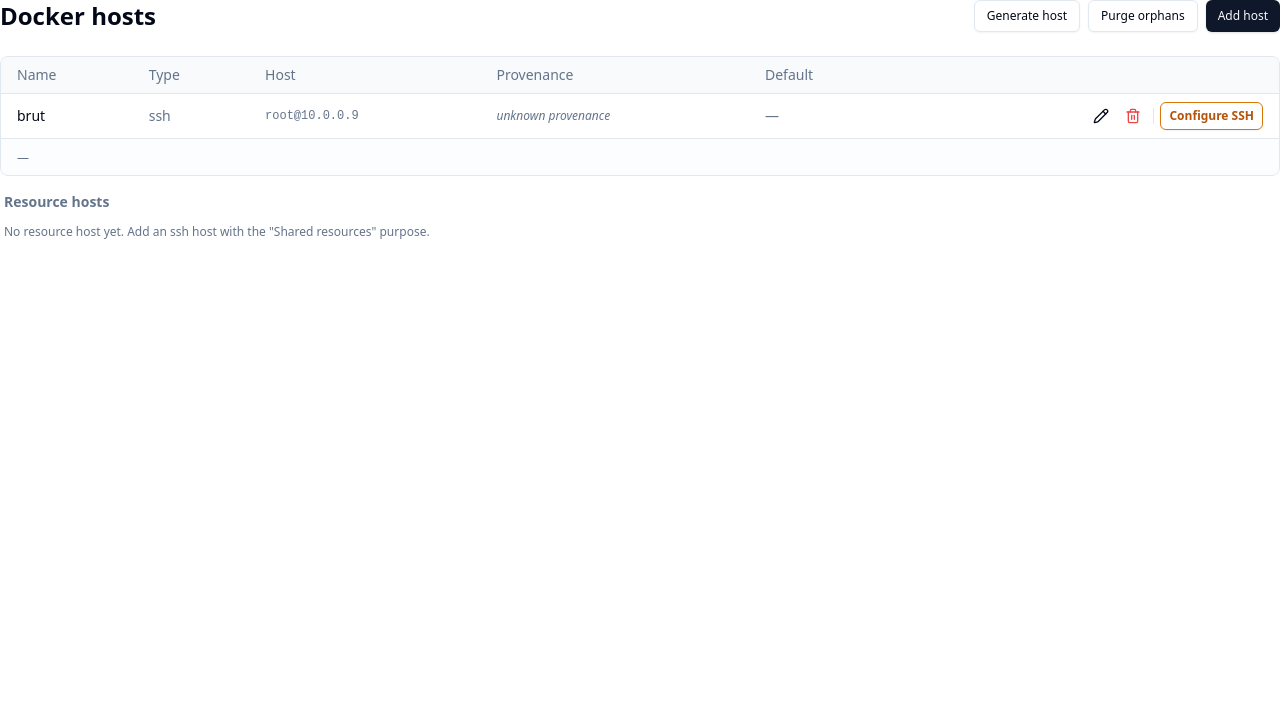
AdminHosts › laisse la capacite vide quand elle est inconnue
Expected: the text "brut" is shown, [1,94,133,138]
Click the 4th button at (1101, 116), box [1087,102,1115,130]
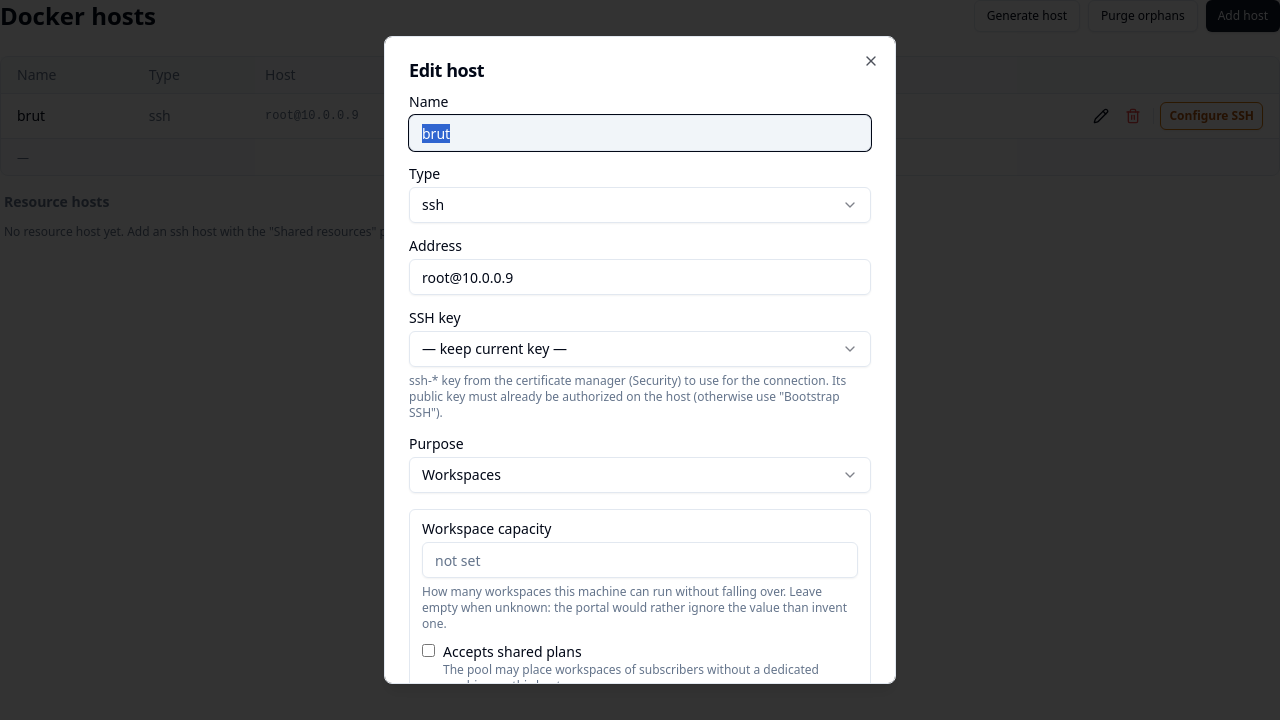
Expected: the number field labelled "Workspace capacity" is not empty, [422,542,858,578]
